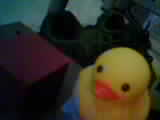duck: (73, 53, 143, 113)
